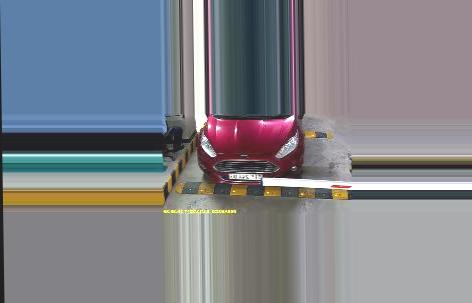License_Plate: (225, 171, 265, 183)
